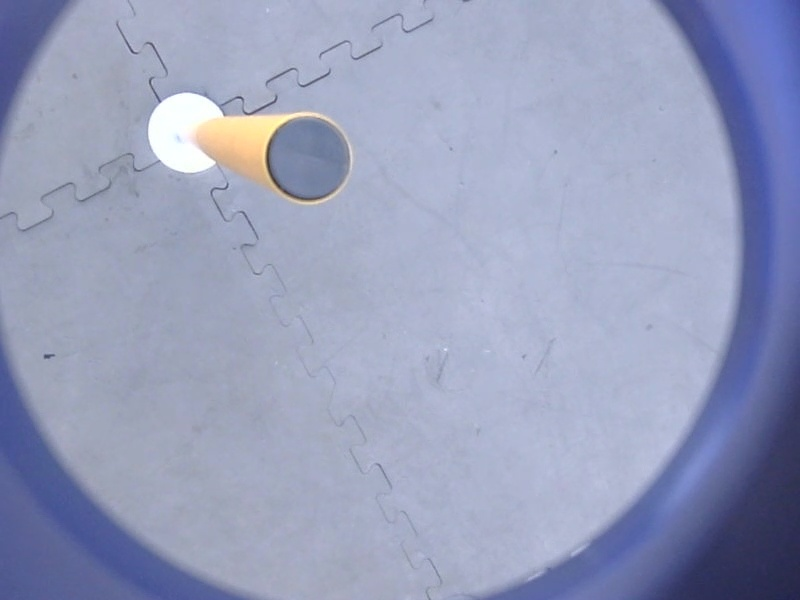tip: (259, 106, 359, 210)
